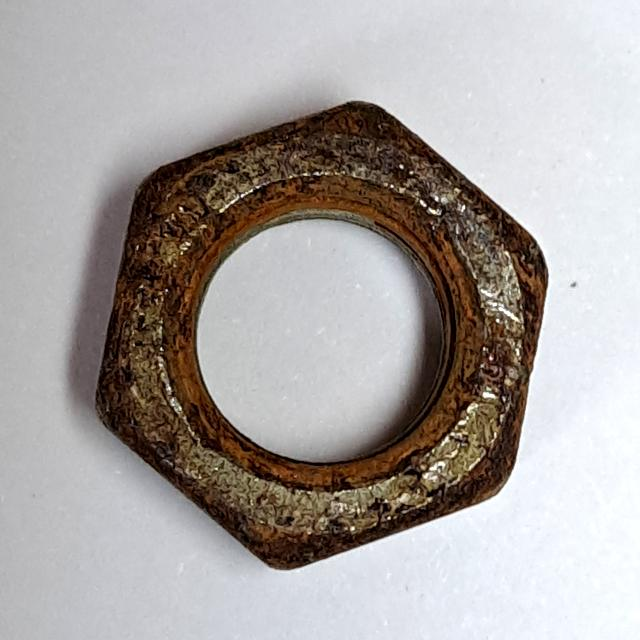Rust: (85, 83, 558, 598)
